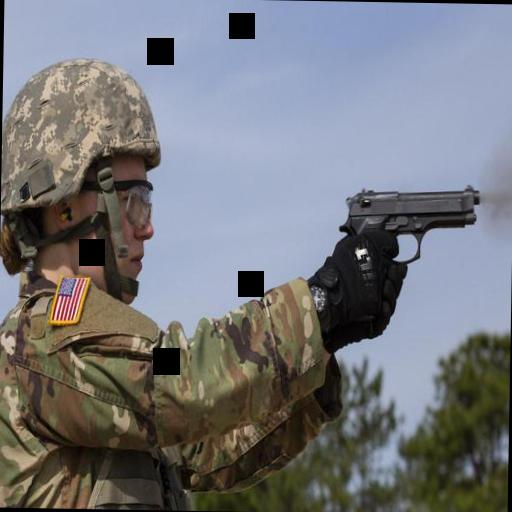Handgun: (332, 175, 482, 276)
